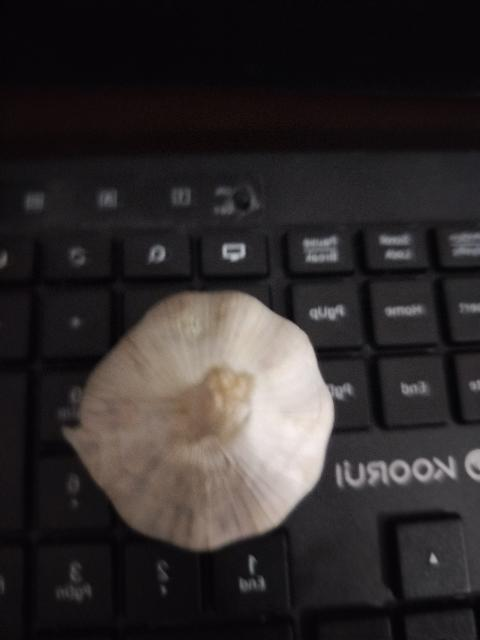garlic: (61, 288, 335, 552)
